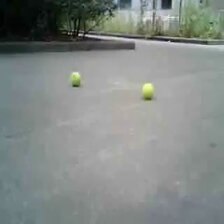tennis: (140, 82, 155, 98), (70, 70, 81, 85)
